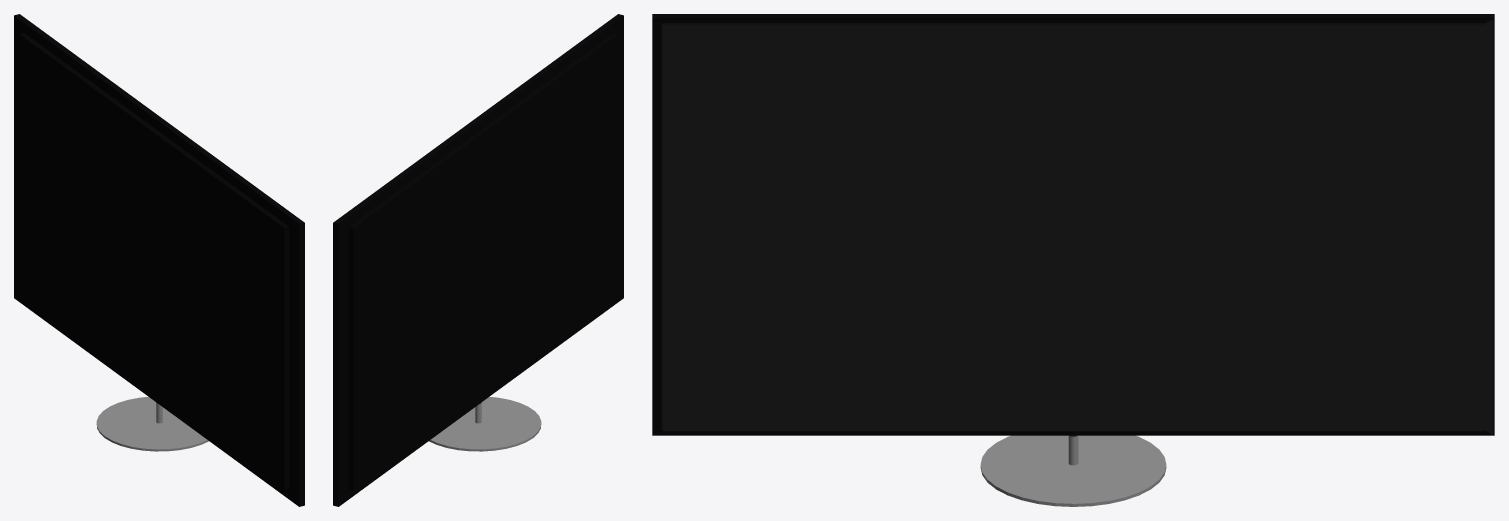
The picture shows the model from 3 angles, left to right: view 1: azimuth 30°, elevation 25°; view 2: azimuth 150°, elevation 25°; view 3: azimuth 270°, elevation 25°; orthographic projection. The views are drawn at different scales.
Visible parts, largest first — view 1: TV; view 2: TV; view 3: TV.
Boxes of the visible parts, left/top/right/bottom form: TV: left=14, top=14, right=304, bottom=506; TV: left=333, top=14, right=623, bottom=506; TV: left=652, top=14, right=1494, bottom=506.
Size of the model in its own units: 26.65 by 71.43 by 121.
